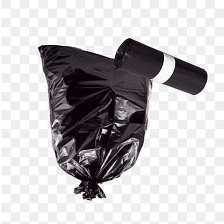plastic_bag: (34, 37, 156, 205), (109, 36, 211, 100)
